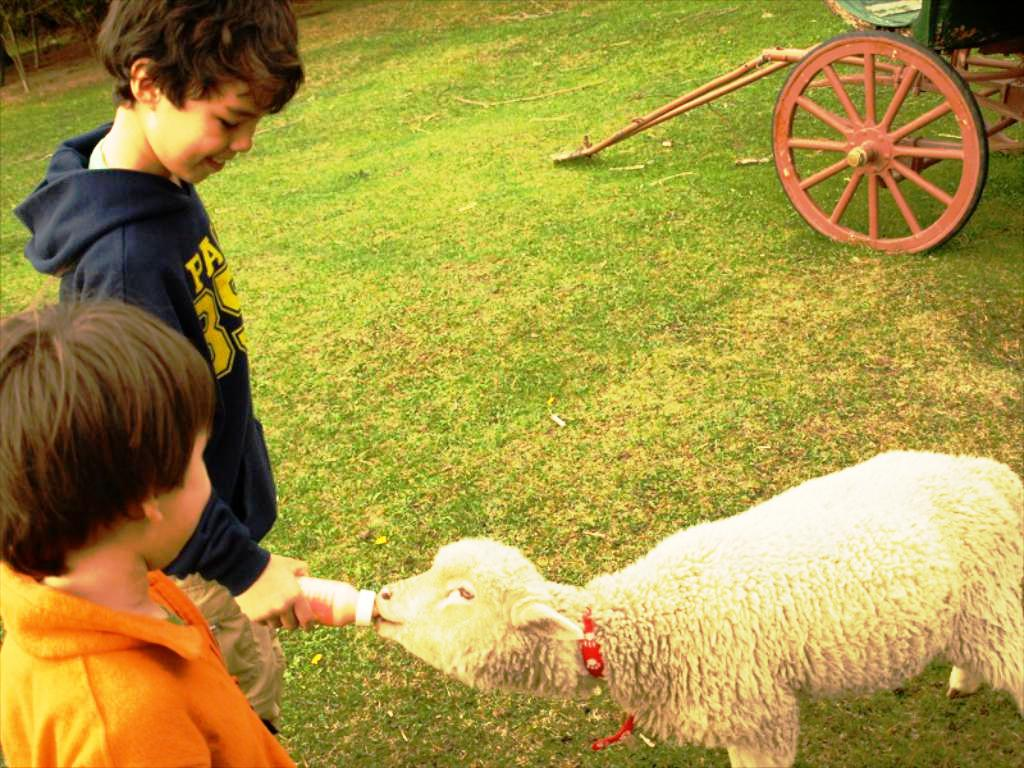Sheep: (377, 428, 990, 750)
